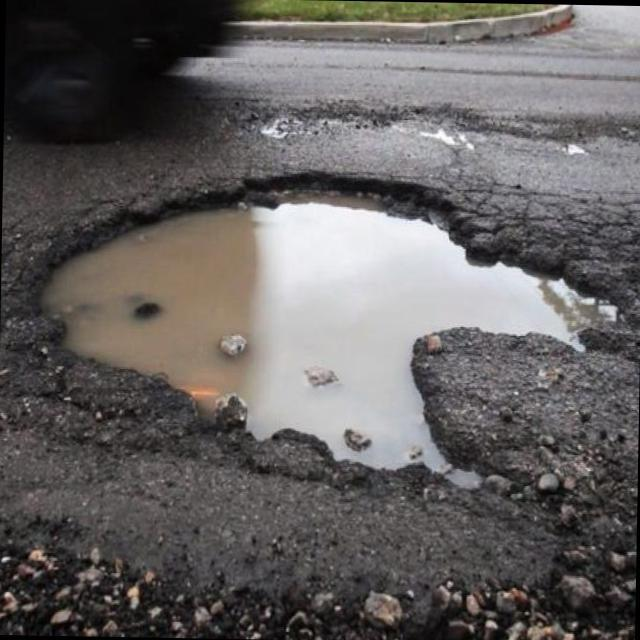Pothole: (43, 201, 614, 468)
